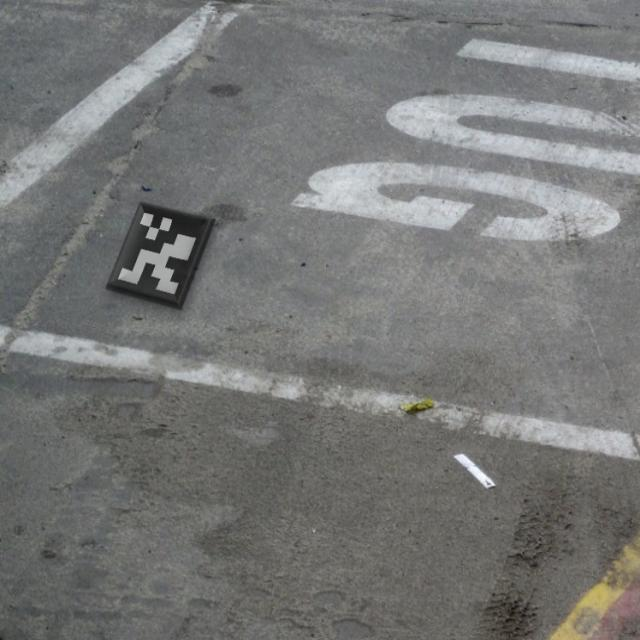marker: (102, 195, 222, 322)
